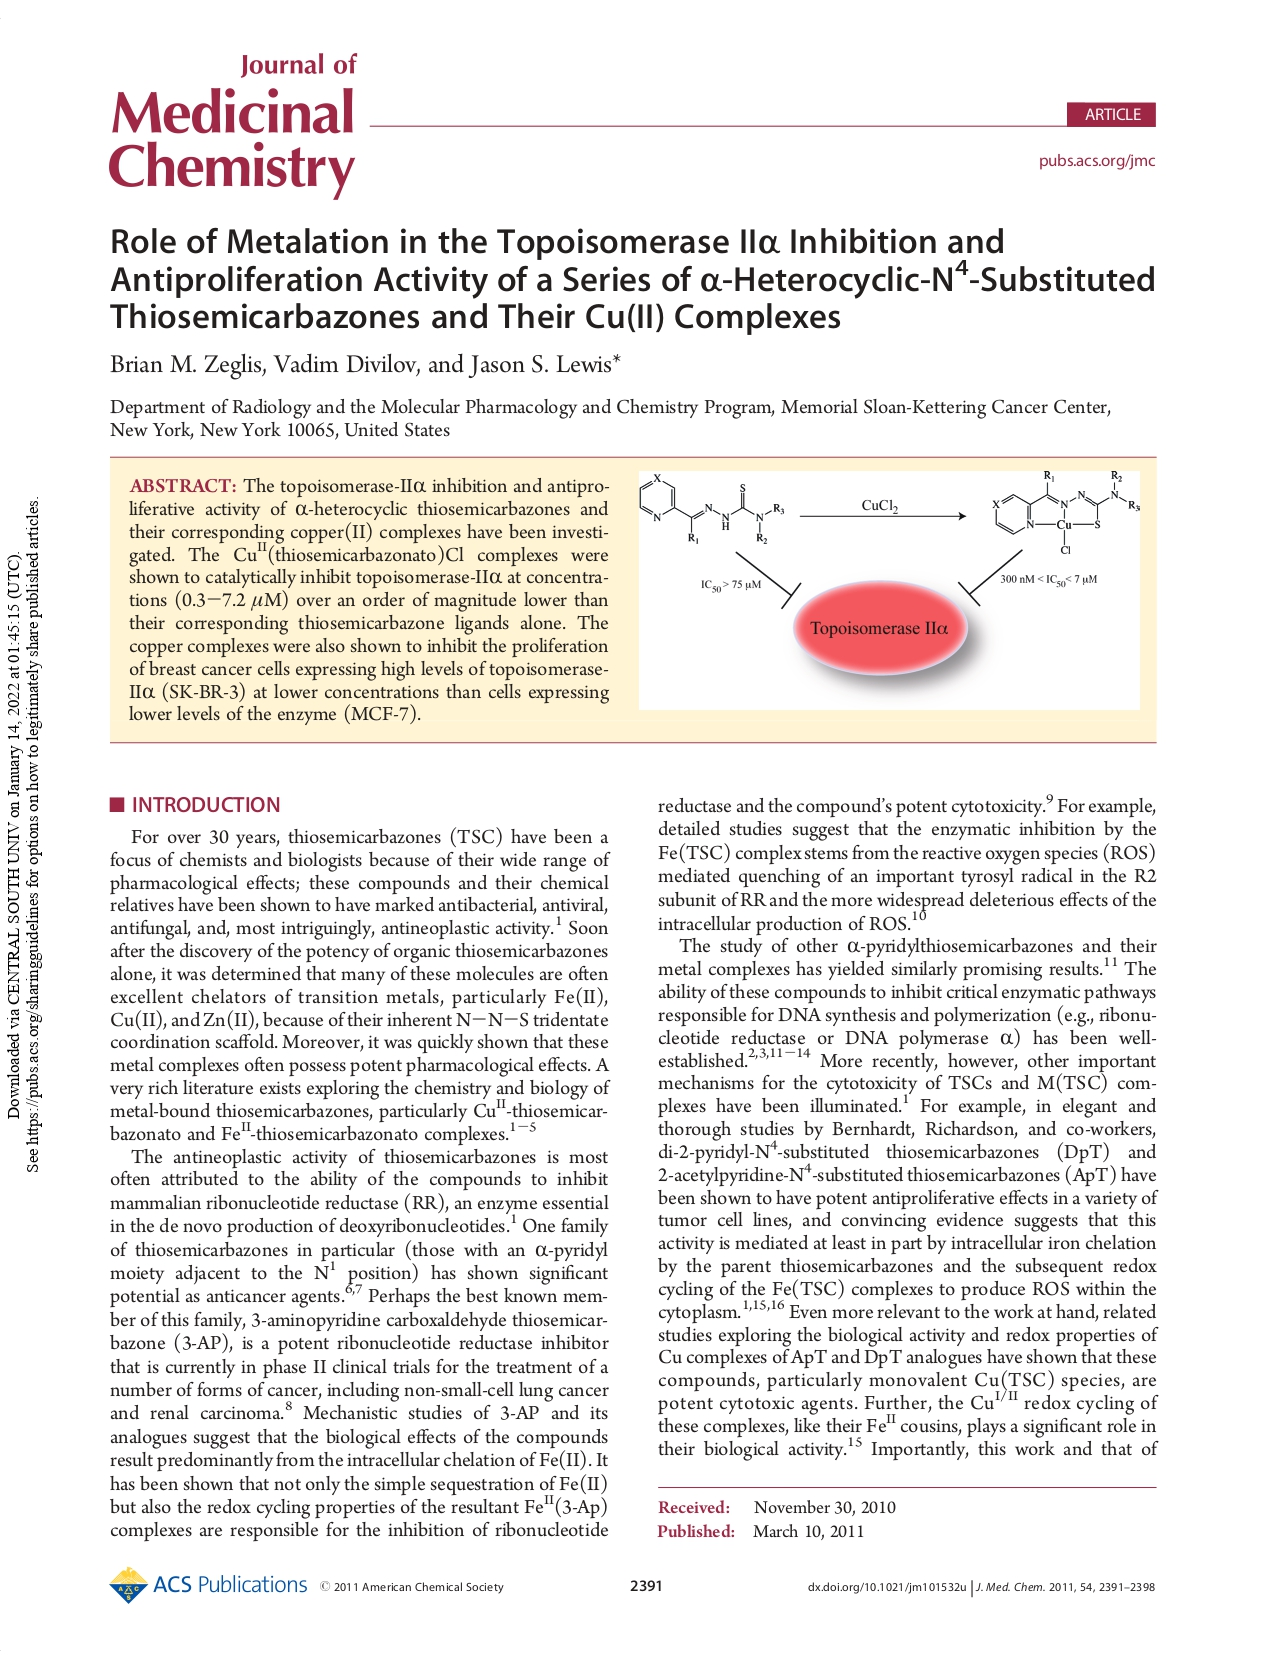exist_molecular: (988, 465, 1142, 555), (636, 469, 789, 548)
